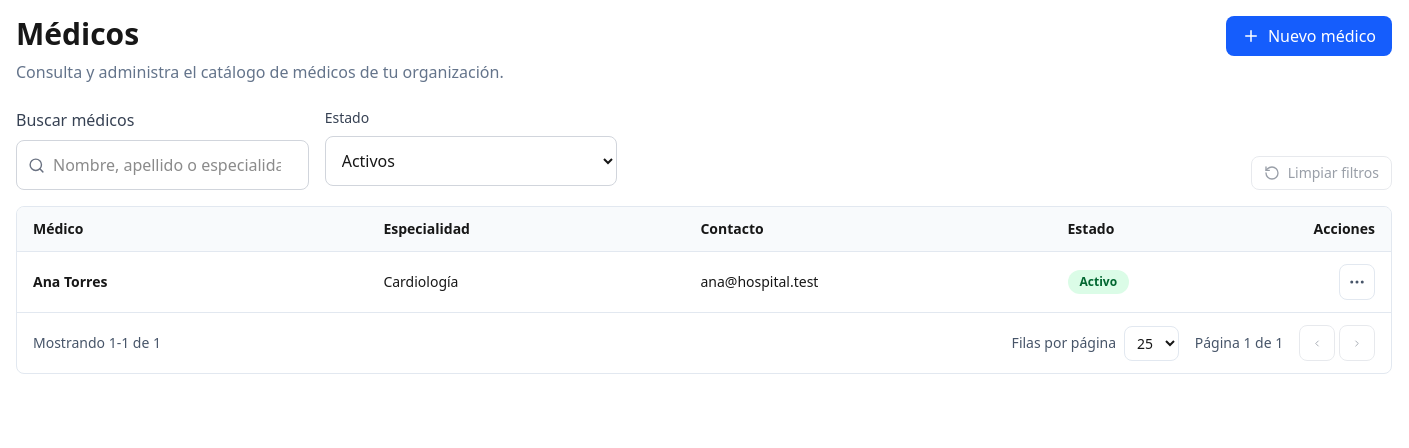
Test case: DoctorsPage › permite create/edit/lifecycle a ADMIN
Expected: the text "Ana Torres" is shown, [33,272,107,291]
Expected: the button "Nuevo médico" is shown, [1226,16,1392,56]
Step 1. Click the button named "Acciones del médico Ana Torres" → {"x": 1357, "y": 282}, box [1339,264,1375,300]
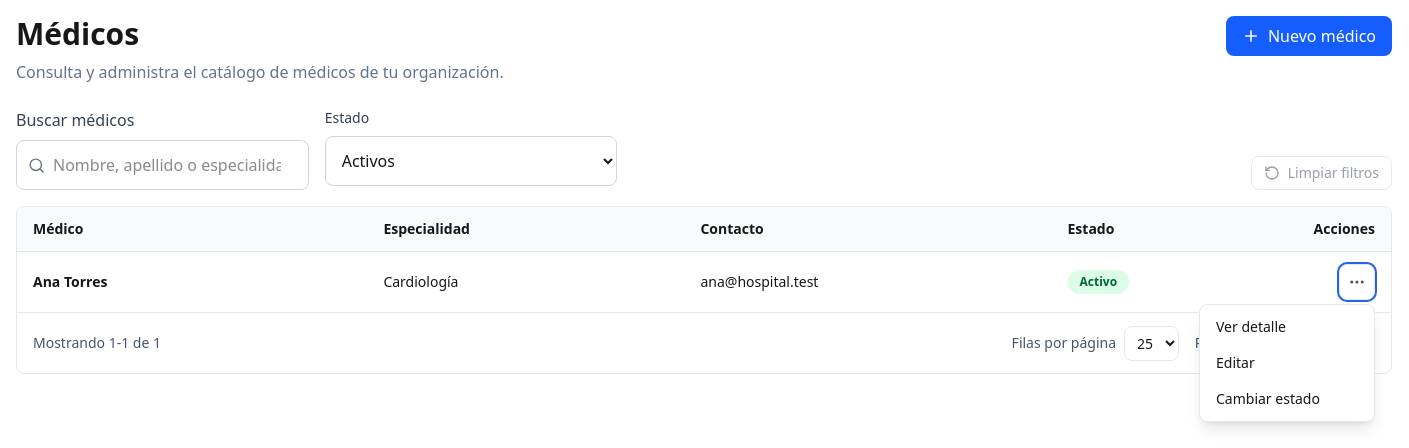
Now the menu item "Editar" is shown, box [1204,345,1370,381]
Now the menu item "Cambiar estado" is shown, box [1204,381,1370,417]
